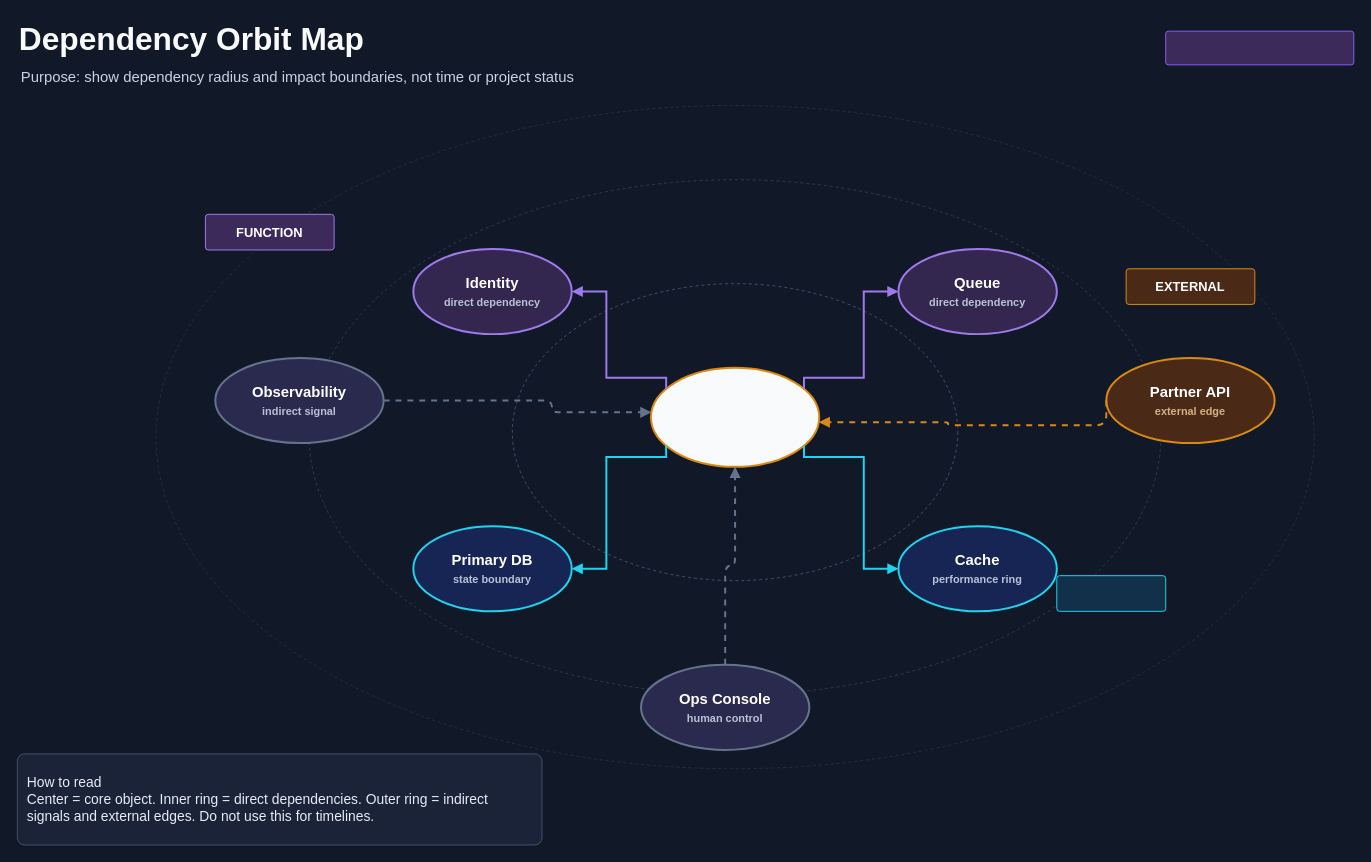
The diagram is 1371 pixels wide and 862 high, and some of its shapes have lost their labels. The centre of each missing label's shape, as x and y in pixels:
"Core Service customer decision API" goes at [734,416].
"DATA" goes at [1111,593].
"Dependency radius" goes at [1259,47].
